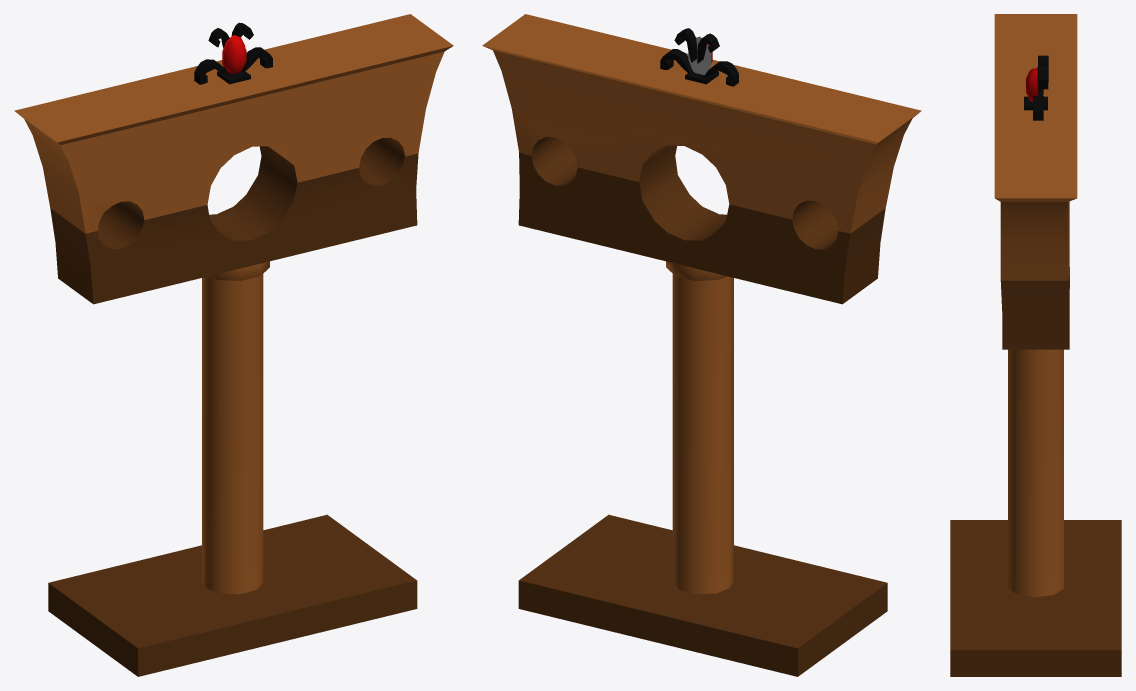
Rendered from SM_pillory.fbx.
3 renders of one model, left to right at view 1: azimuth 30°, elevation 25°; view 2: azimuth 150°, elevation 25°; view 3: azimuth 270°, elevation 25°, orthographic. The views are drawn at different scales.
Visible parts, largest first — view 1: SM_pillory; view 2: SM_pillory; view 3: SM_pillory.
Part boxes in pixels (x1=…): SM_pillory: x1=14, y1=14, x2=453, y2=676; SM_pillory: x1=482, y1=14, x2=921, y2=676; SM_pillory: x1=950, y1=14, x2=1121, y2=676.
Bounding box in the file's own units: 1.69 × 2.36 × 0.6634.
